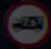Heavy Vehicles: (6, 2, 47, 38)
